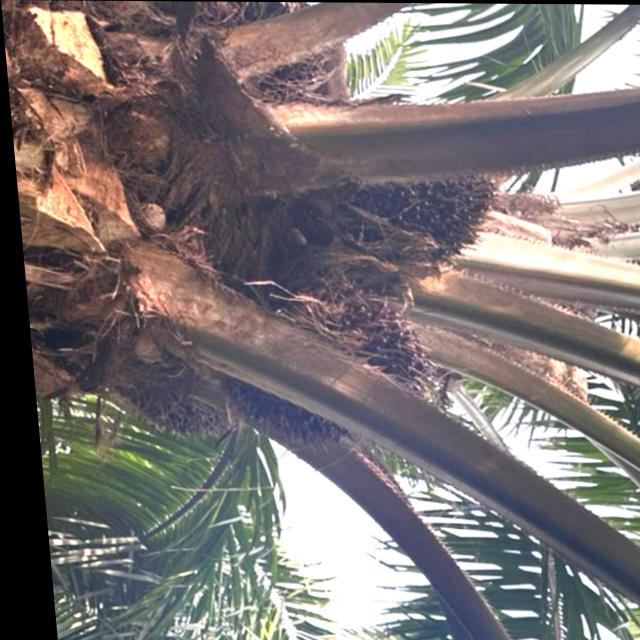ripe: (199, 271, 456, 460)
